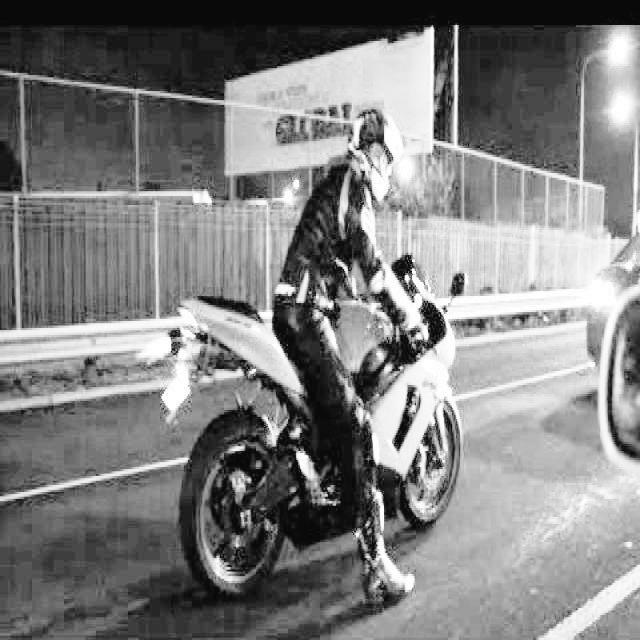Motorcycle: (160, 243, 467, 594)
Person: (262, 103, 404, 370)
